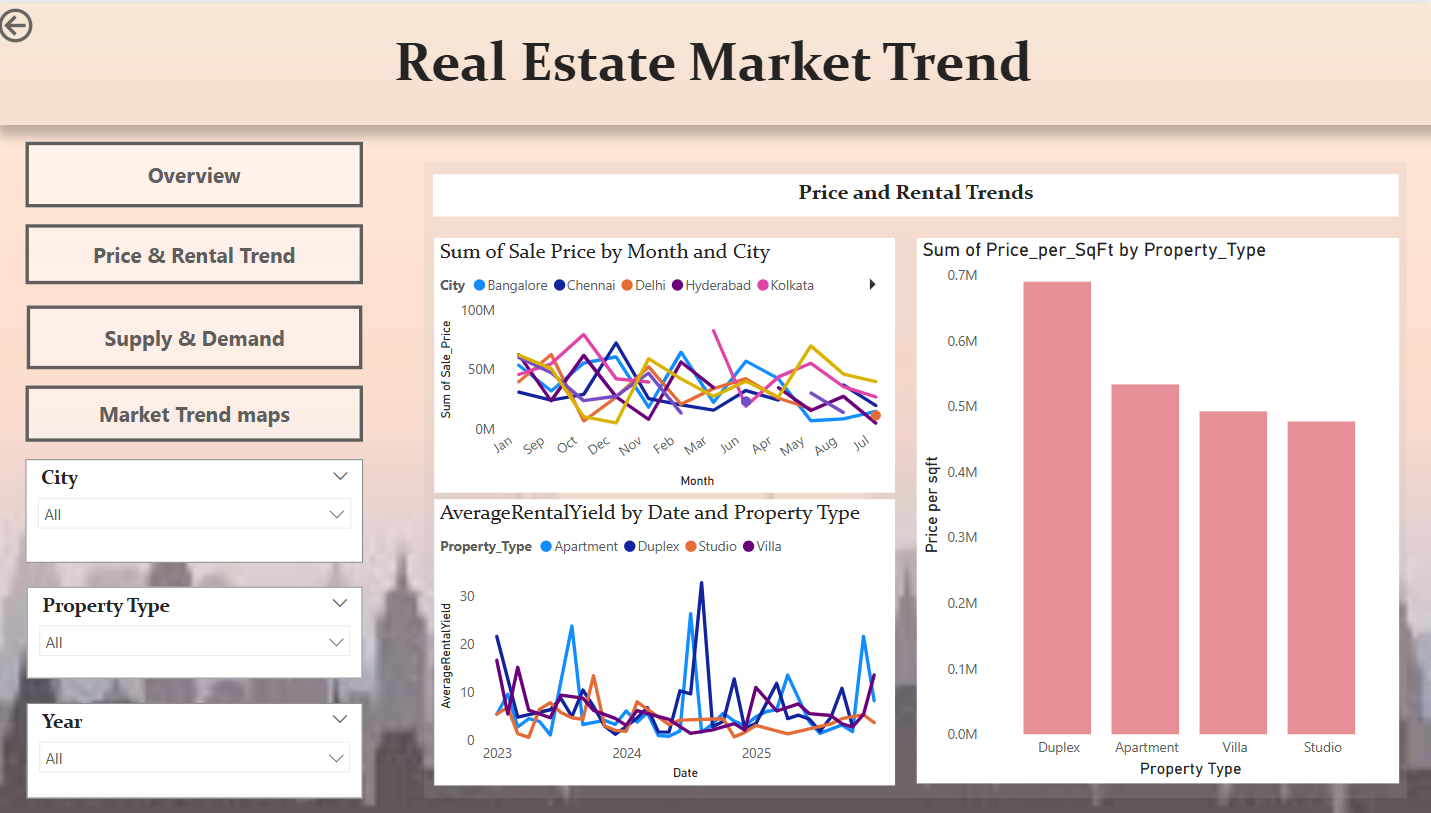

Layout of this report page (visuals, bound fields, positions):
{"tool":"powerbi","page":{"name":"Price & Rental Trend","canvas":[1280,720],"ordinal":1},"visuals":[{"type":"actionButton","box":[0,0,100,40],"z":4000},{"type":"textbox","title":"Real Estate Market Trends","box":[0,0,1280.3,107.8],"z":5000},{"type":"textbox","box":[383,141,873.8,565.5],"z":6000},{"type":"textbox","box":[391.3,152.1,858.6,37.3],"z":7000},{"type":"lineChart","title":"Sum of Sale Price by Month and City","fields":{"Y":["Sum(real_estate_data.Sale_Price)"],"Series":["real_estate_data.City"],"Category":["Calendar.Month"]},"box":[392.7,208.8,409.2,226.7],"z":8000},{"type":"lineChart","title":"AverageRentalYield by Date and Property Type","fields":{"Category":["real_estate_data.Date"],"Y":["real_estate_data.AverageRentalYield"],"Series":["real_estate_data.Property_Type"]},"box":[392.7,441,409.2,254.4],"z":9000},{"type":"columnChart","fields":{"Category":["real_estate_data.Property_Type"],"Y":["Sum(real_estate_data.Price_per_SqFt)"]},"box":[820.8,208.7,428.7,485.2],"z":10000},{"type":"slicer","fields":{"Values":["real_estate_data.City"]},"box":[28.3,405,300,91.7],"z":10001},{"type":"slicer","fields":{"Values":["real_estate_data.Property_Type"]},"box":[30,518.3,298.3,81.7],"z":10002},{"type":"slicer","fields":{"Values":["Calendar.Year"]},"box":[30,621.7,298.3,85],"z":10003},{"type":"actionButton","box":[28.3,123.3,300,58.3],"z":10004},{"type":"actionButton","box":[28.3,196.7,300,53.3],"z":10005},{"type":"actionButton","box":[30,268.3,298.3,56.7],"z":10006},{"type":"actionButton","box":[28.3,340,300,50],"z":10007}]}

Visuals, with their boxes in screenshot pixels (x1, y1, x2, y2), scaled from the page's 1280x720 canvas onto the 1431x813 screenshot:
actionButton: [0,0,112,45]
"Real Estate Market Trends" textbox: [0,0,1430,122]
textbox: [428,159,1405,798]
textbox: [437,172,1397,214]
"Sum of Sale Price by Month and City" lineChart: [439,236,896,492]
"AverageRentalYield by Date and Property Type" lineChart: [439,498,896,785]
columnChart - real_estate_data.Property_Type x Sum(real_estate_data.Price_per_SqFt): [918,236,1397,784]
slicer - real_estate_data.City: [32,457,367,561]
slicer - real_estate_data.Property_Type: [34,585,367,678]
slicer - Calendar.Year: [34,702,367,798]
actionButton: [32,139,367,205]
actionButton: [32,222,367,282]
actionButton: [34,303,367,367]
actionButton: [32,384,367,440]
